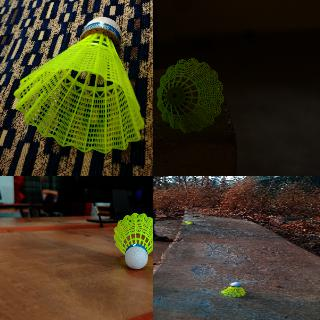shuttlecock: (14, 18, 144, 152), (157, 58, 223, 132), (113, 211, 152, 268), (221, 282, 246, 297), (184, 221, 195, 224)
